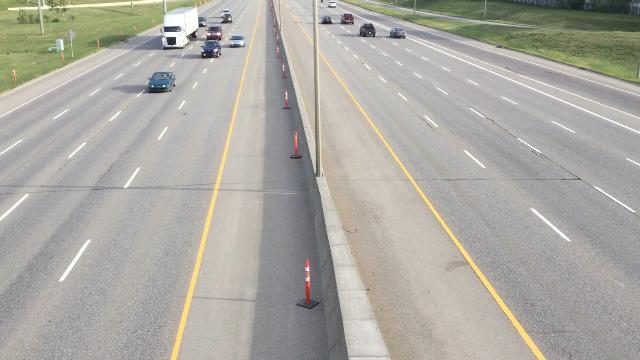car: (146, 70, 176, 94), (202, 40, 222, 58), (356, 23, 377, 38), (206, 24, 224, 41), (391, 26, 407, 41), (229, 36, 246, 47), (222, 14, 232, 24), (197, 15, 206, 26), (322, 16, 333, 24), (328, 1, 336, 8), (221, 9, 228, 15)
pickup-truck: (342, 11, 355, 22)
truck: (162, 6, 199, 50)
